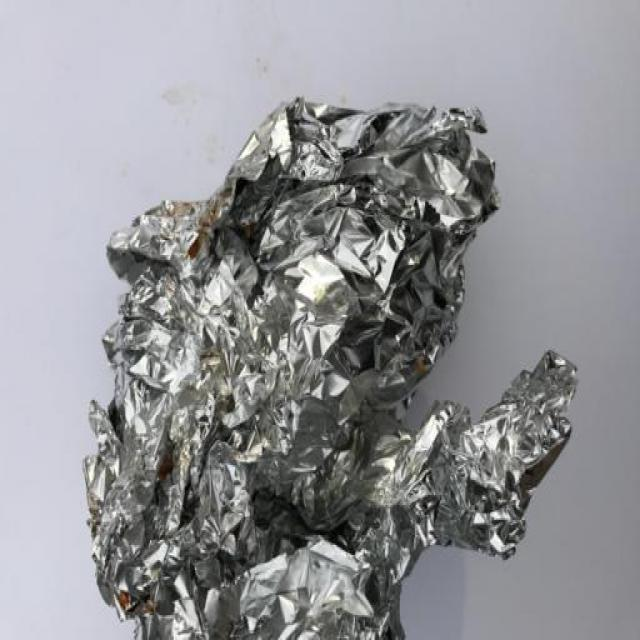others: (71, 89, 592, 640)
